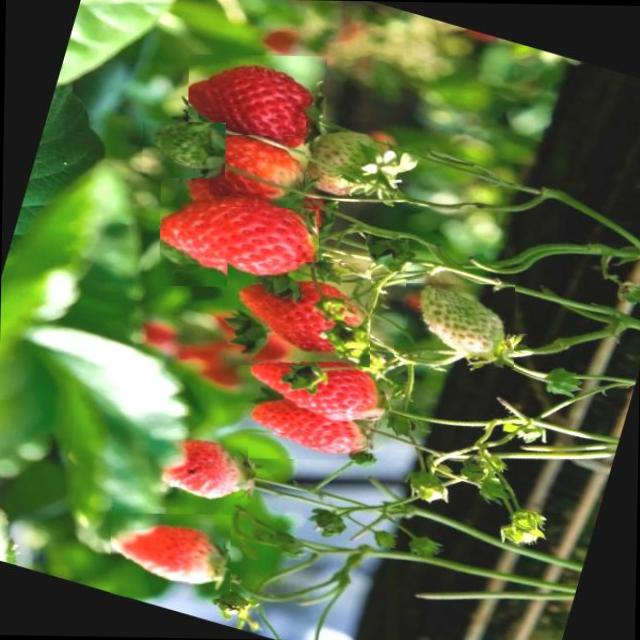ripe: (158, 176, 320, 288), (226, 260, 370, 367), (240, 336, 394, 434), (186, 54, 326, 156), (109, 512, 231, 598), (248, 392, 368, 459), (148, 428, 248, 508), (208, 134, 313, 208)
unripe: (404, 282, 514, 368), (305, 120, 398, 200), (142, 121, 226, 178)
